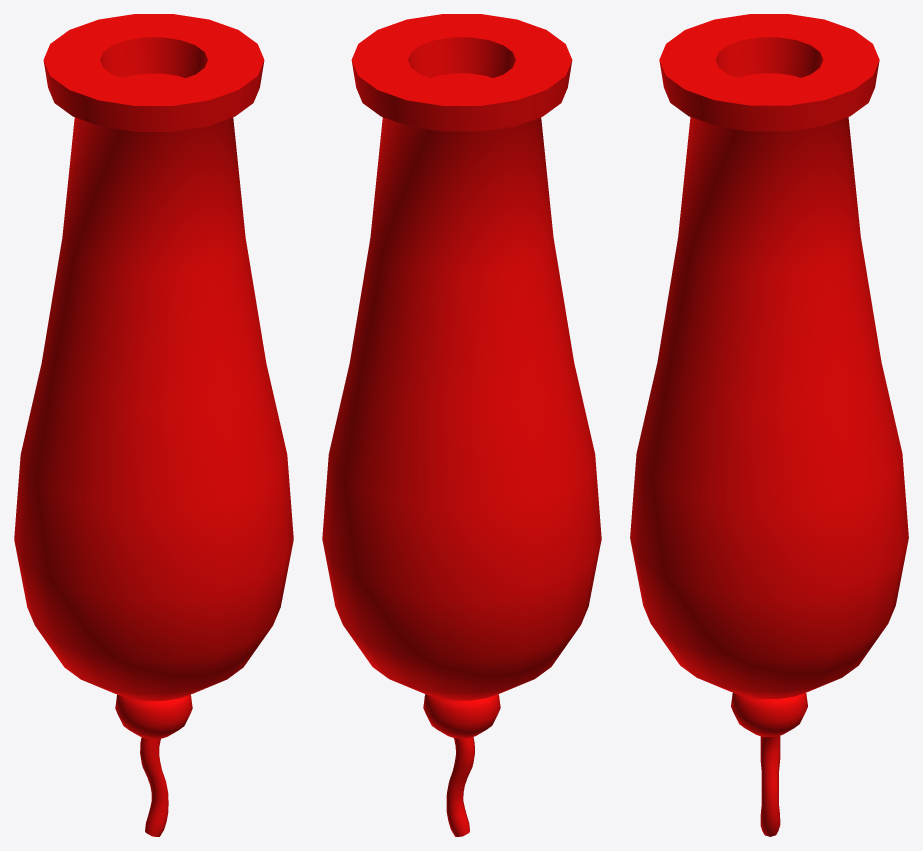
Rendered from Parts_Cannon.fbx.
3 views of the same model, side by side, from view 1: azimuth 30°, elevation 25°; view 2: azimuth 150°, elevation 25°; view 3: azimuth 270°, elevation 25° (orthographic).
Parts seen in each view (by area): view 1: Sphere001; view 2: Sphere001; view 3: Sphere001.
Boxes of the visible parts, bbox=[...] form: Sphere001: bbox=[14, 14, 293, 836]; Sphere001: bbox=[322, 14, 601, 836]; Sphere001: bbox=[630, 14, 908, 836].
Size of the model in its own units: 19.26 by 59.95 by 19.56.
